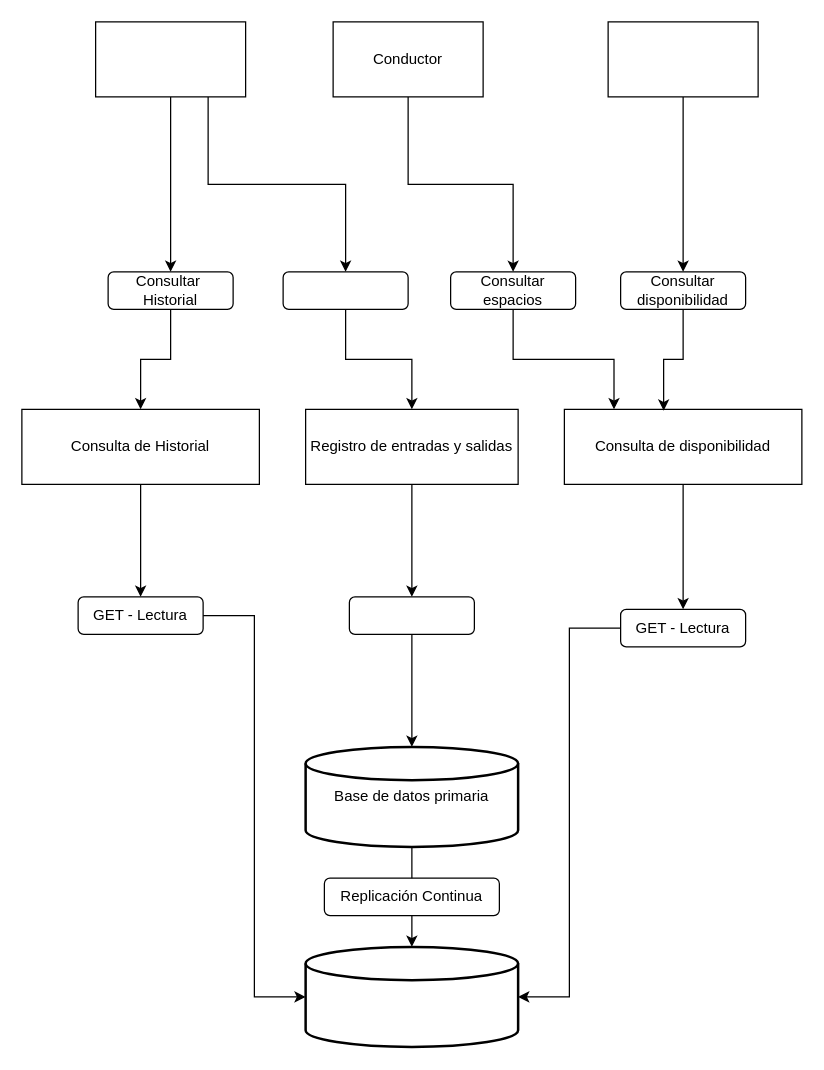
Some shapes in this 824 by 1070 pixel diagram are drawn without their labels. Here are the shapes that lost their labels. From the top down, the centre of each, then its label:
At [170,59]: "Operador".
At [682,59]: "Pantalla Informativa".
At [345,290]: "Registrar movimiento".
At [411,615]: "POST - Escritura".
At [411,996]: "Base de datos réplica".
